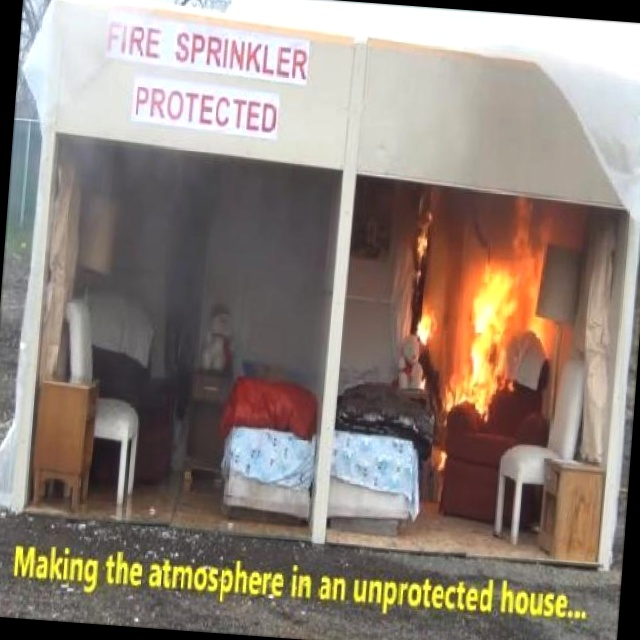fire: (399, 186, 552, 417)
